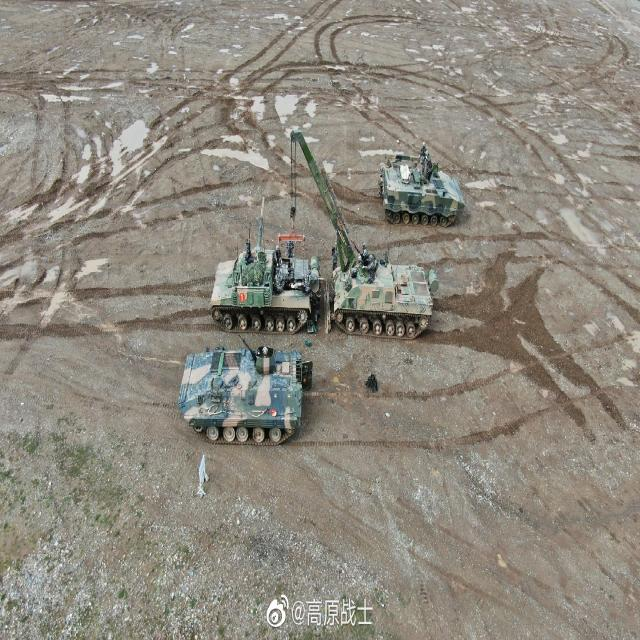tank: (213, 197, 321, 338), (177, 343, 315, 446), (330, 250, 446, 339), (379, 144, 466, 227)
